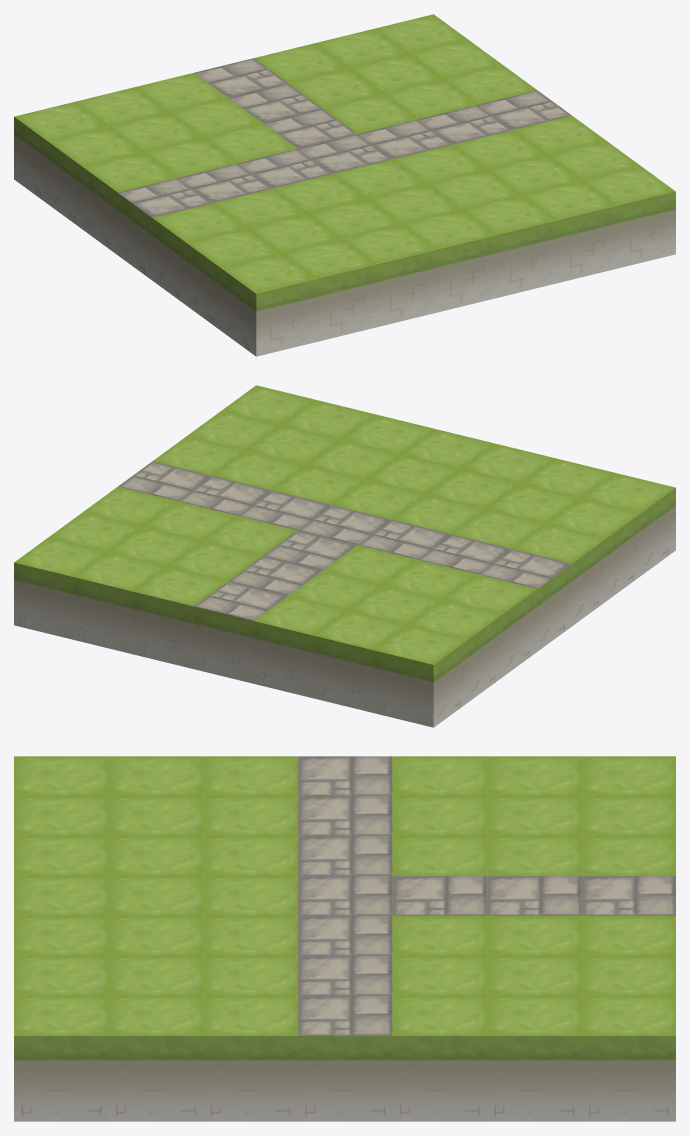
Rendered from T-Tile.fbx.
The picture shows the model from 3 angles, top to bottom: view 1: azimuth 30°, elevation 25°; view 2: azimuth 150°, elevation 25°; view 3: azimuth 270°, elevation 25°; orthographic projection. The views are drawn at different scales.
Parts seen in each view (by area): view 1: pCube149; view 2: pCube149; view 3: pCube149.
Boxes of the visible parts, x1,y1,x2,y2 form: pCube149: (14,14,675,356); pCube149: (14,385,675,727); pCube149: (14,756,675,1121).
Bounding box in the file's own units: 7 × 1 × 7.
